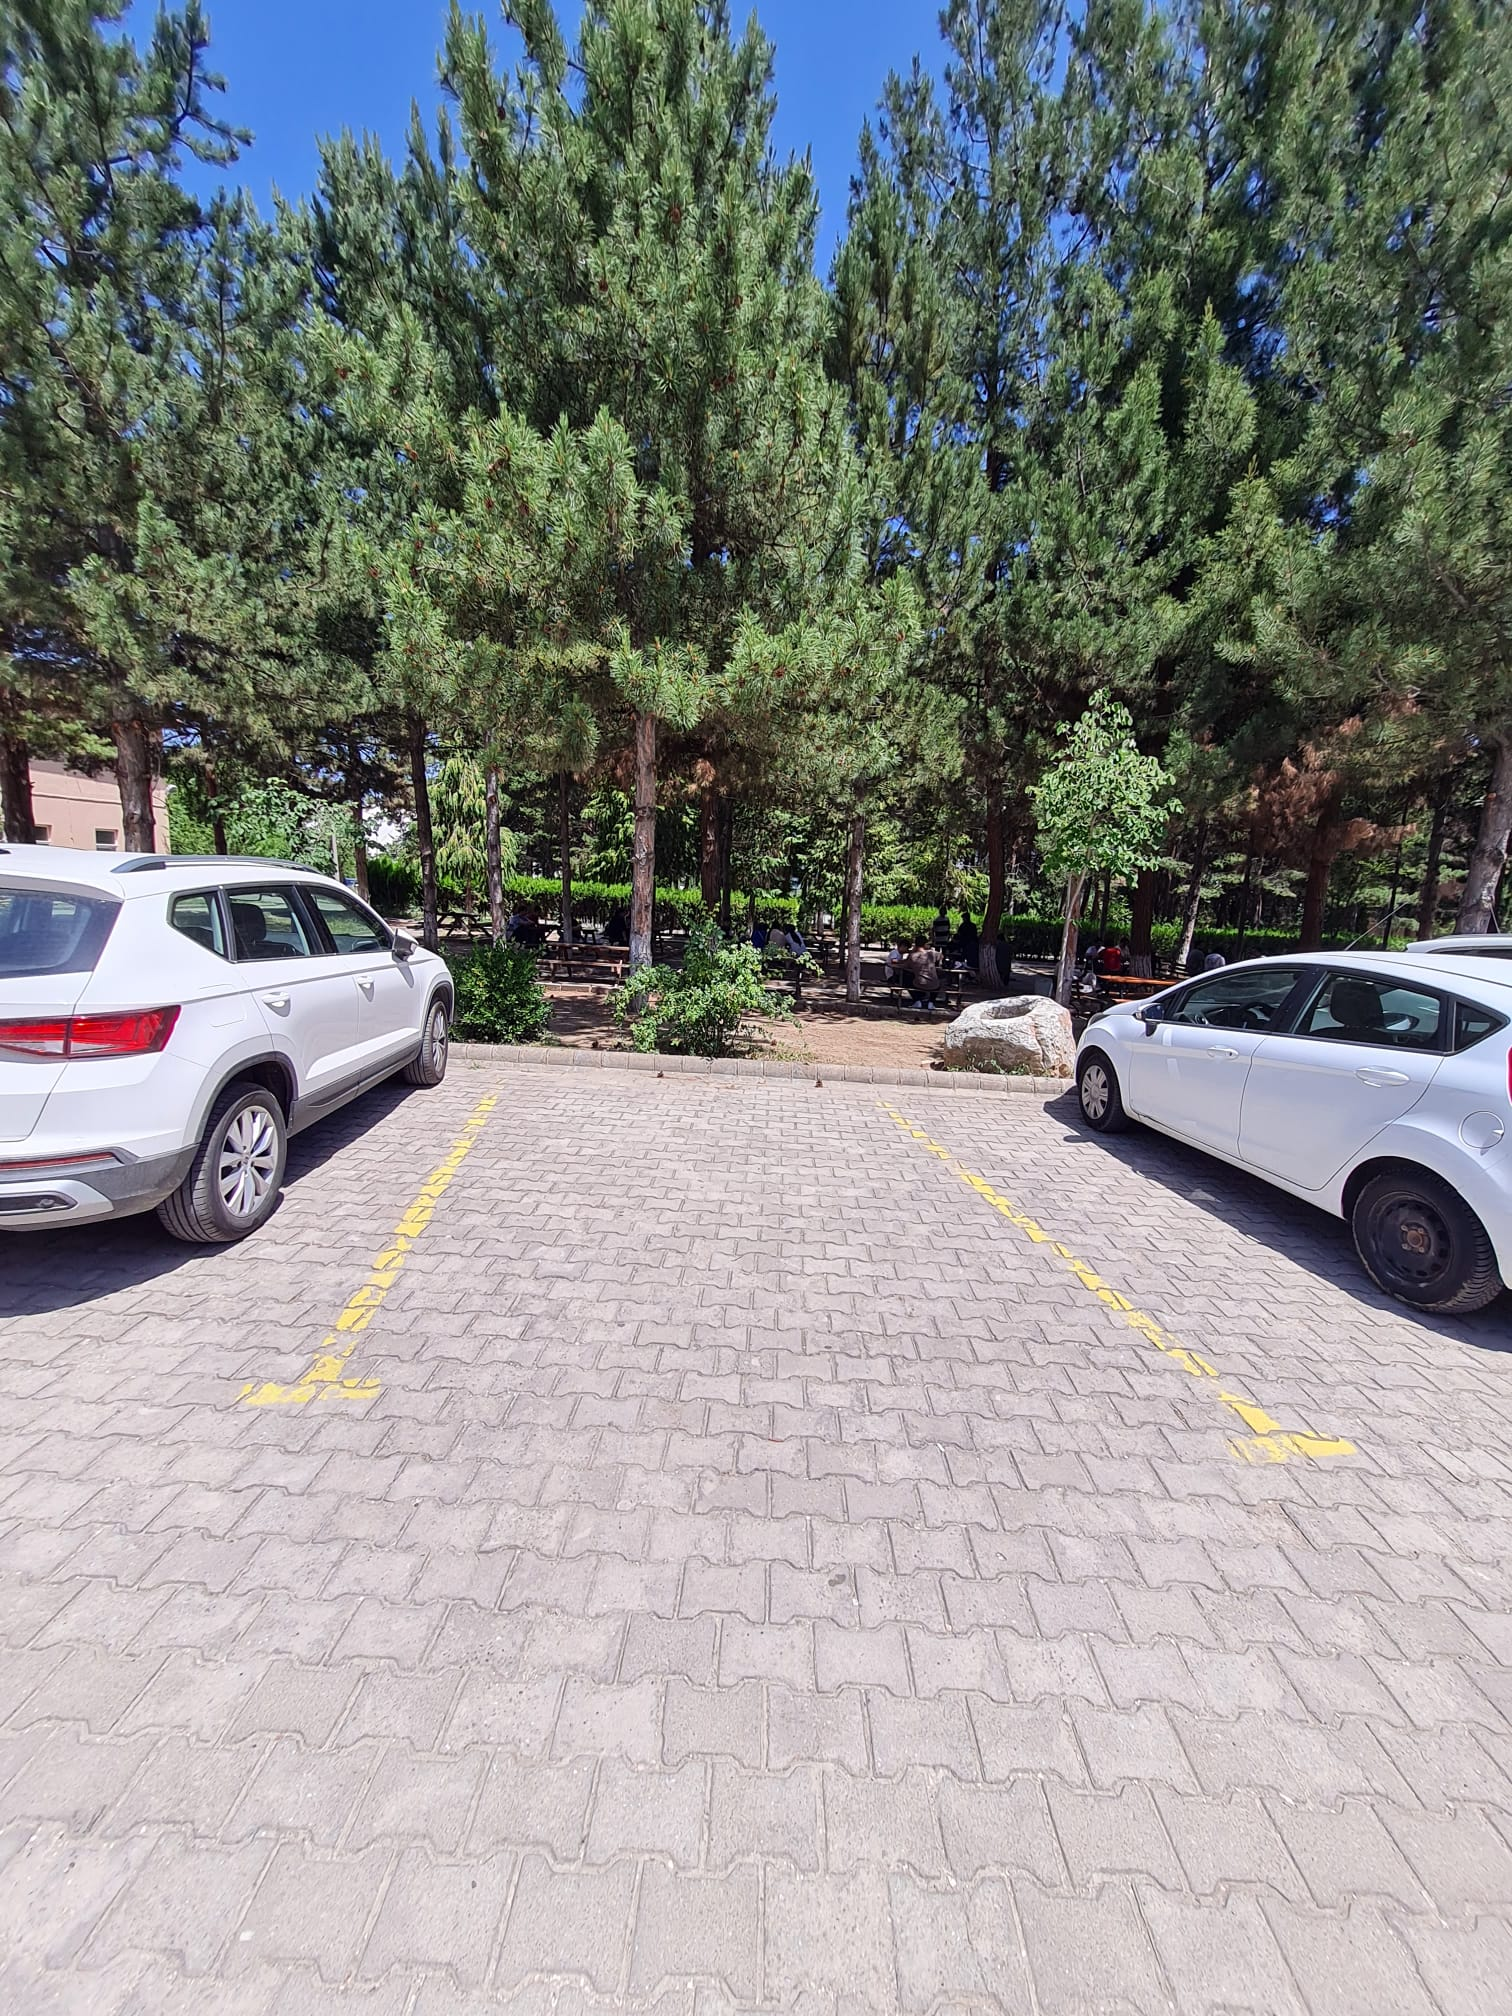dolu: (333, 1048, 1252, 1463)
